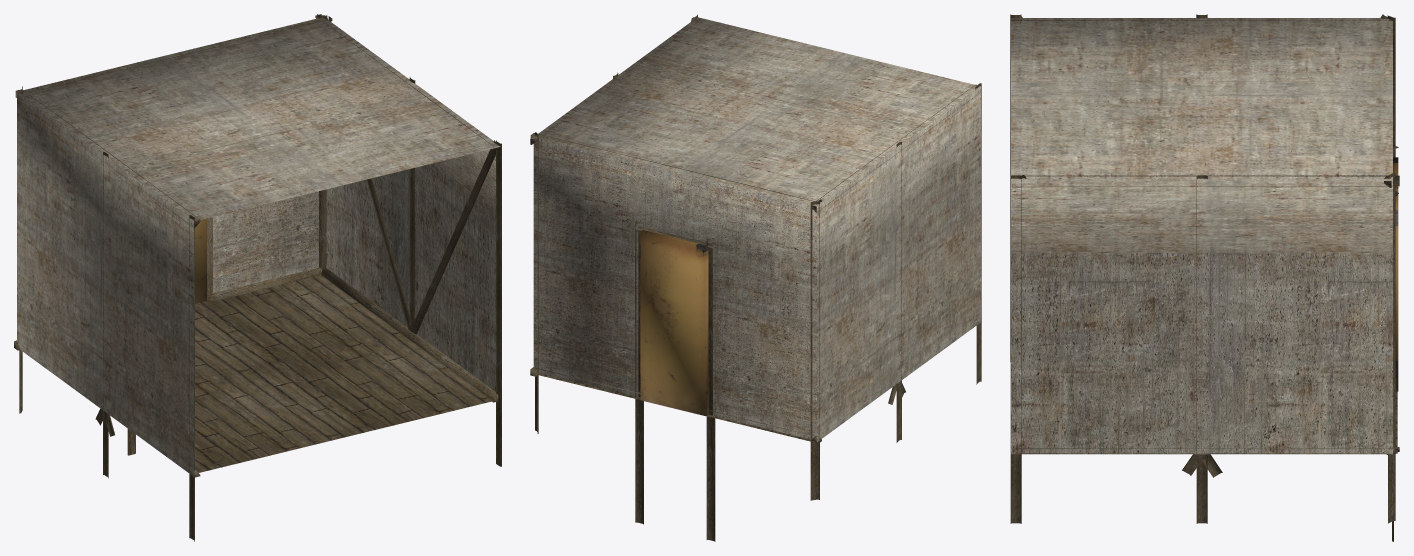
Rendered from pokoj.fbx.
3 renders of one model, left to right at view 1: azimuth 30°, elevation 25°; view 2: azimuth 150°, elevation 25°; view 3: azimuth 270°, elevation 25°, orthographic. The views are drawn at different scales.
Visible parts, largest first — view 1: sciany, sciany_001, podloga, Cube; view 2: sciany, Cube, podloga, sciany_001; view 3: sciany, podloga, Cube, sciany_001.
Boxes of the visible parts, <box> form: sciany: <box>17,18,500,476</box>; sciany_001: <box>195,275,492,472</box>; podloga: <box>14,14,501,541</box>; Cube: <box>195,218,206,303</box>; sciany: <box>533,17,980,441</box>; Cube: <box>640,230,708,416</box>; podloga: <box>530,14,981,541</box>; sciany_001: <box>537,373,815,442</box>; sciany: <box>1011,18,1392,454</box>; podloga: <box>1010,14,1399,541</box>; Cube: <box>1393,157,1398,391</box>; sciany_001: <box>1016,391,1397,453</box>.
Bounding box in the file's own units: 13.91 × 16.74 × 13.91.
